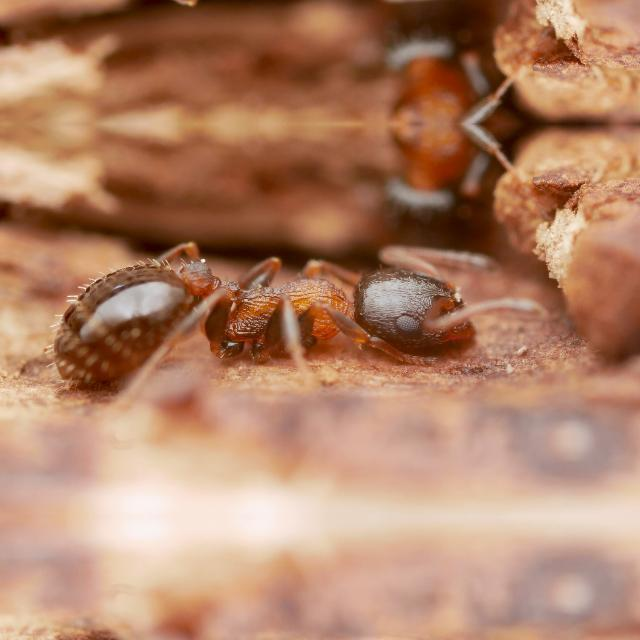Temnothorax: (41, 195, 544, 401), (39, 0, 542, 50)
